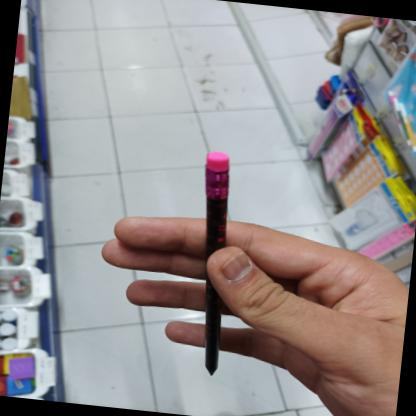pencil: (200, 154, 229, 376)
